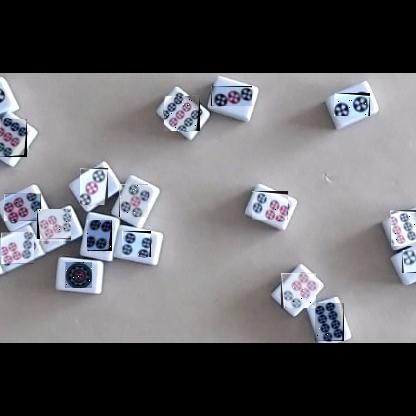1p: (65, 262, 92, 288)
2p: (334, 93, 370, 116), (402, 250, 416, 273)
3p: (80, 168, 108, 205), (211, 86, 252, 106)
4p: (87, 220, 112, 251), (122, 231, 151, 257)
5p: (119, 184, 148, 217)
6p: (281, 273, 316, 308), (252, 191, 288, 220), (4, 193, 41, 221)
7p: (37, 210, 71, 244), (1, 232, 34, 264)
8p: (315, 303, 344, 341)
9p: (164, 95, 200, 131), (0, 119, 27, 157), (390, 210, 416, 246)
